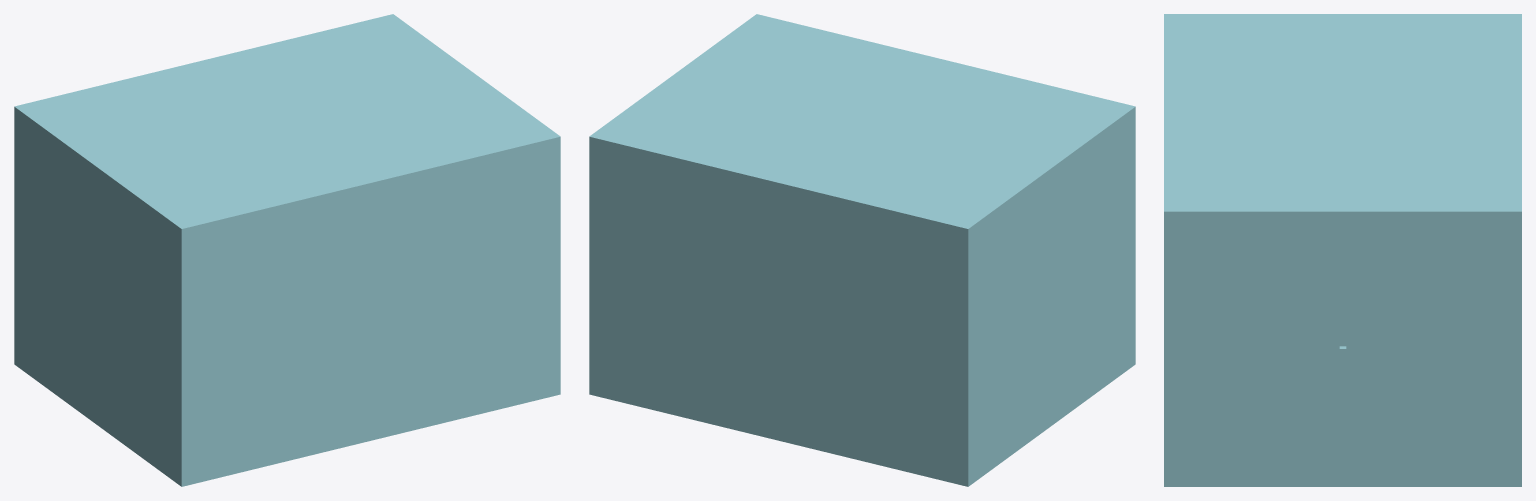
The model's file is cuboid_eraser_v7000.obj.
The picture shows the model from 3 angles, left to right: view 1: azimuth 30°, elevation 25°; view 2: azimuth 150°, elevation 25°; view 3: azimuth 270°, elevation 25°; orthographic projection. The views are drawn at different scales.
Bounding box in the file's own units: 0.0714 × 0.0457 × 0.0539.
Materials: 1 (1 with a texture image).
